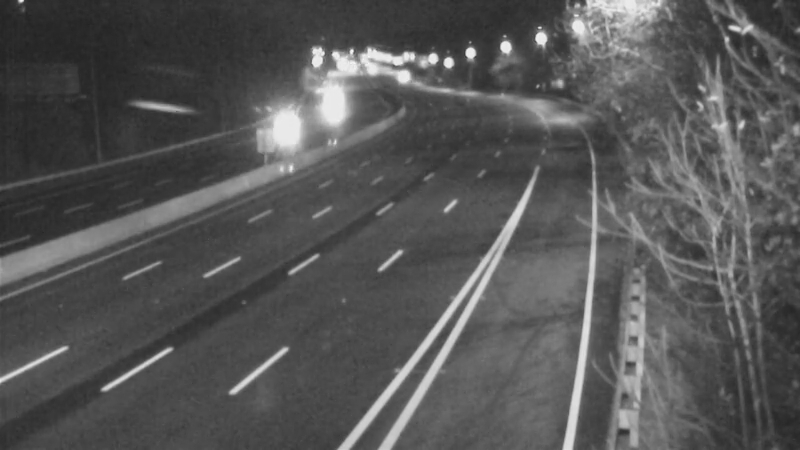vehicle: (374, 52, 424, 102), (263, 104, 313, 154), (307, 78, 357, 128)
